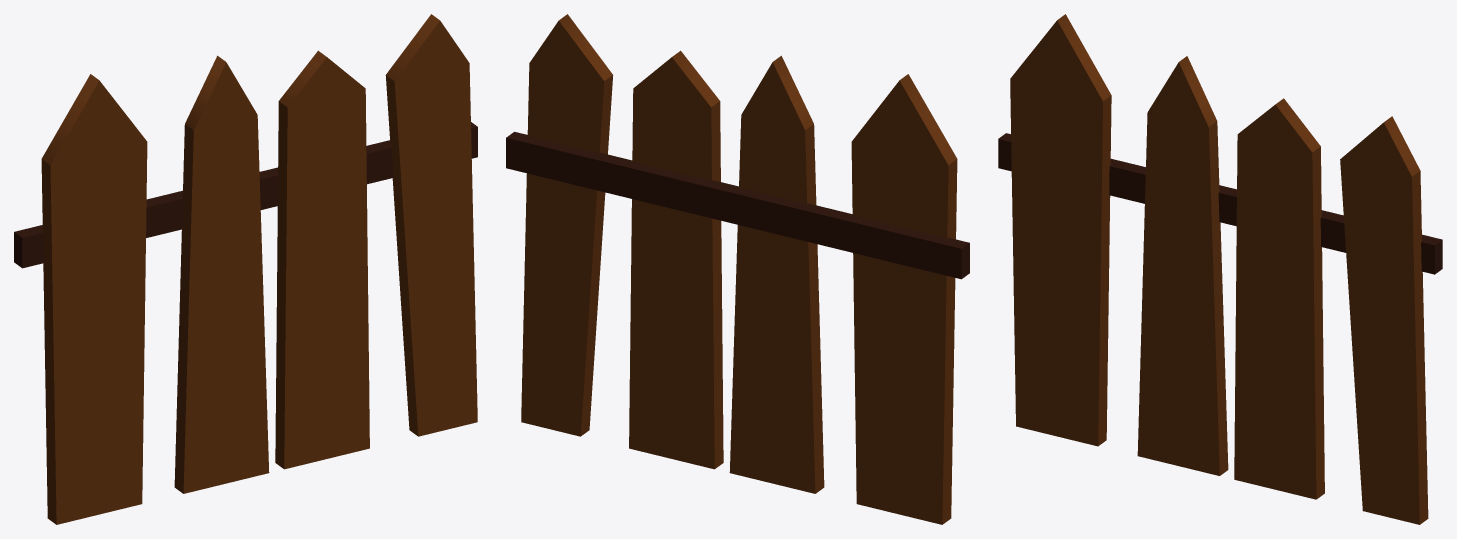
Rendered from cerca2.fbx.
3 views of the same model, side by side, from view 1: azimuth 30°, elevation 25°; view 2: azimuth 150°, elevation 25°; view 3: azimuth 330°, elevation 25° (orthographic). The views are drawn at different scales.
Visible parts, largest first — view 1: Box646, Box648, Box647, Box649, Box654; view 2: Box646, Box648, Box647, Box649, Box654; view 3: Box646, Box648, Box647, Box649, Box654.
Part boxes in pixels (x1=…): Box646: x1=41, y1=74, x2=147, y2=524; Box648: x1=275, y1=50, x2=369, y2=469; Box647: x1=174, y1=55, x2=269, y2=493; Box649: x1=385, y1=14, x2=477, y2=436; Box654: x1=14, y1=122, x2=477, y2=268; Box646: x1=851, y1=74, x2=957, y2=524; Box648: x1=629, y1=50, x2=723, y2=469; Box647: x1=729, y1=55, x2=824, y2=493; Box649: x1=521, y1=14, x2=613, y2=436; Box654: x1=506, y1=131, x2=969, y2=279; Box646: x1=1010, y1=14, x2=1111, y2=446; Box648: x1=1234, y1=98, x2=1324, y2=499; Box647: x1=1137, y1=56, x2=1228, y2=475; Box649: x1=1340, y1=116, x2=1428, y2=524; Box654: x1=998, y1=133, x2=1442, y2=274.
Bounding box in the file's own units: 1.64 × 1.5 × 0.1006.
